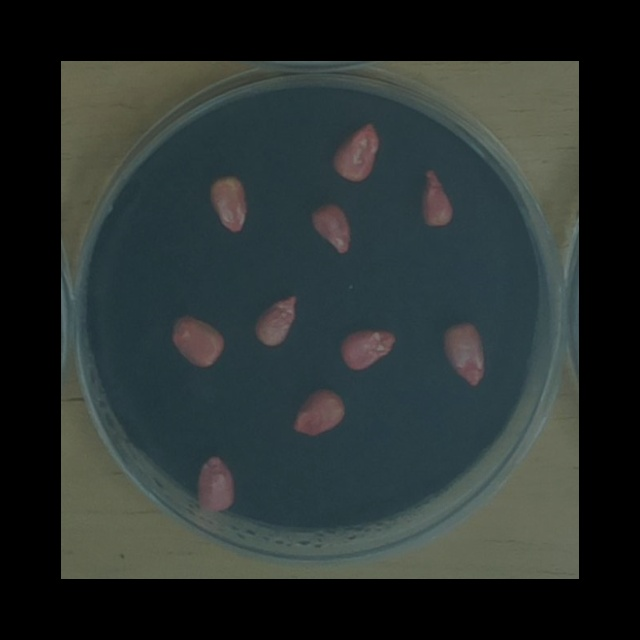Zea mays: (324, 116, 384, 187), (165, 307, 229, 372), (437, 315, 491, 390), (286, 382, 351, 441), (248, 288, 302, 352), (336, 323, 401, 376), (203, 169, 252, 237), (192, 449, 240, 517), (416, 160, 460, 232), (305, 197, 354, 257)
